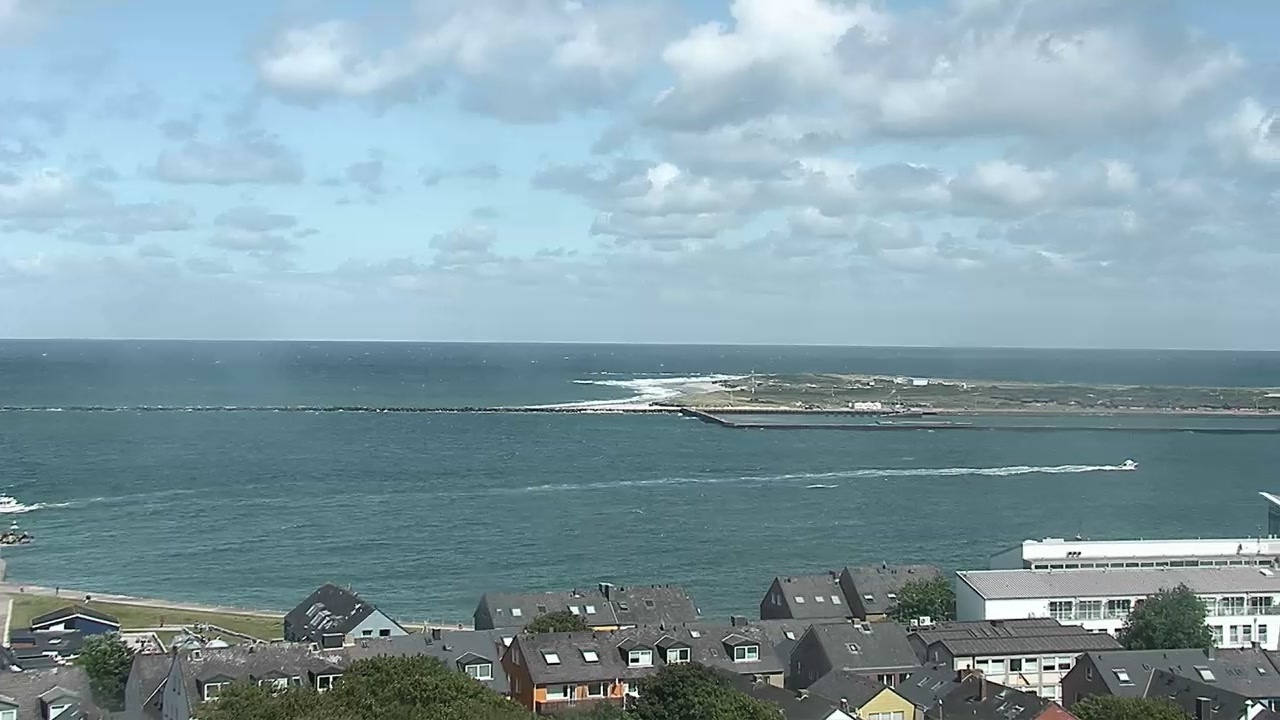human: (55, 585, 60, 595)
land: (804, 404, 821, 410)
sea: (1, 491, 24, 512), (1119, 457, 1138, 469)
